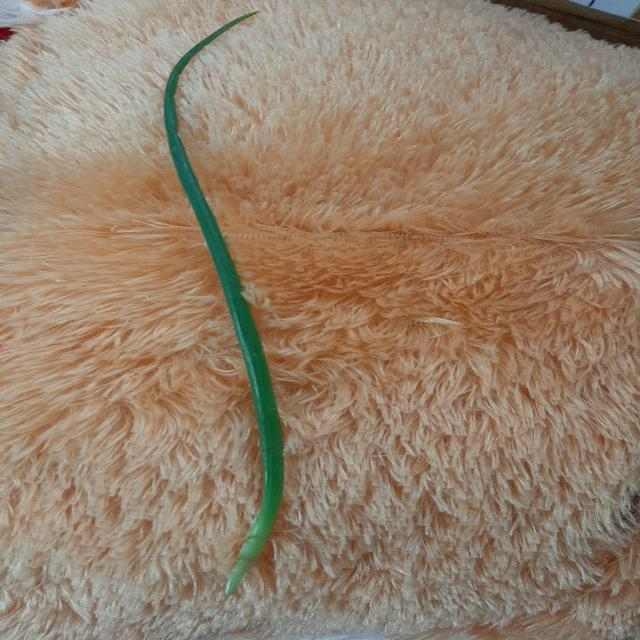onion: (163, 11, 285, 595)
